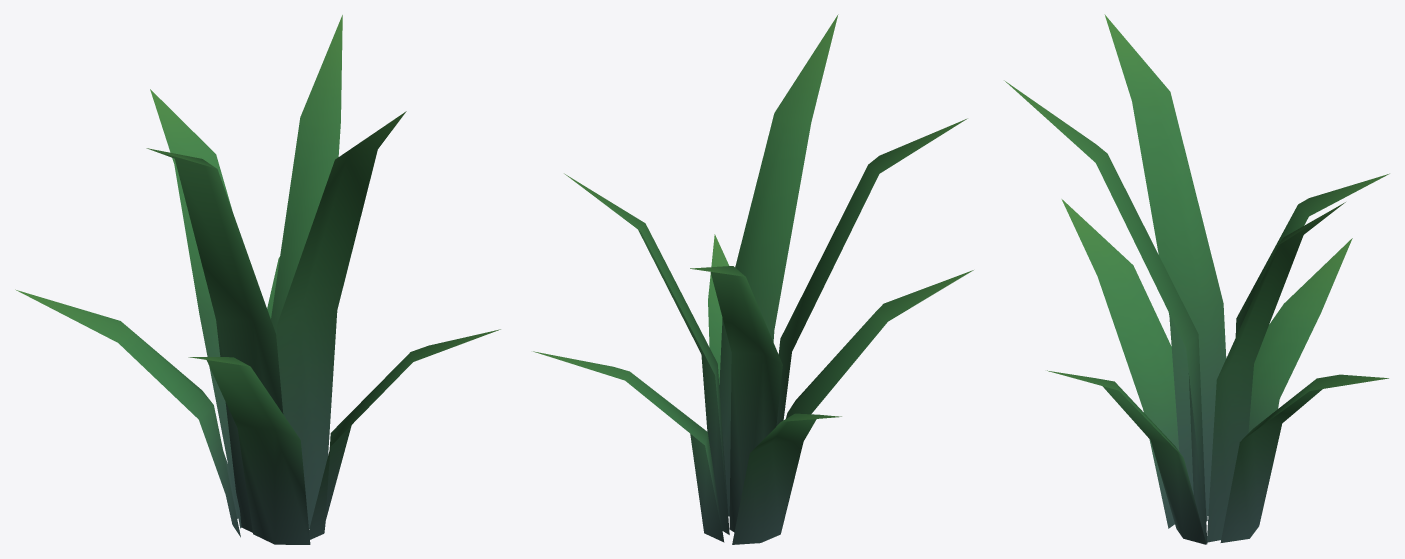
File: plant_29.fbx
3 renders of one model, left to right at view 1: azimuth 30°, elevation 25°; view 2: azimuth 150°, elevation 25°; view 3: azimuth 270°, elevation 25°, orthographic. The views are drawn at different scales.
Visible parts, largest first — view 1: plant_29; view 2: plant_29; view 3: plant_29.
Boxes of the visible parts, bbox=[...] form: plant_29: bbox=[15, 15, 500, 544]; plant_29: bbox=[533, 14, 973, 544]; plant_29: bbox=[1004, 14, 1389, 544].
Size of the model in its own units: 1.18 by 1.64 by 1.28.
